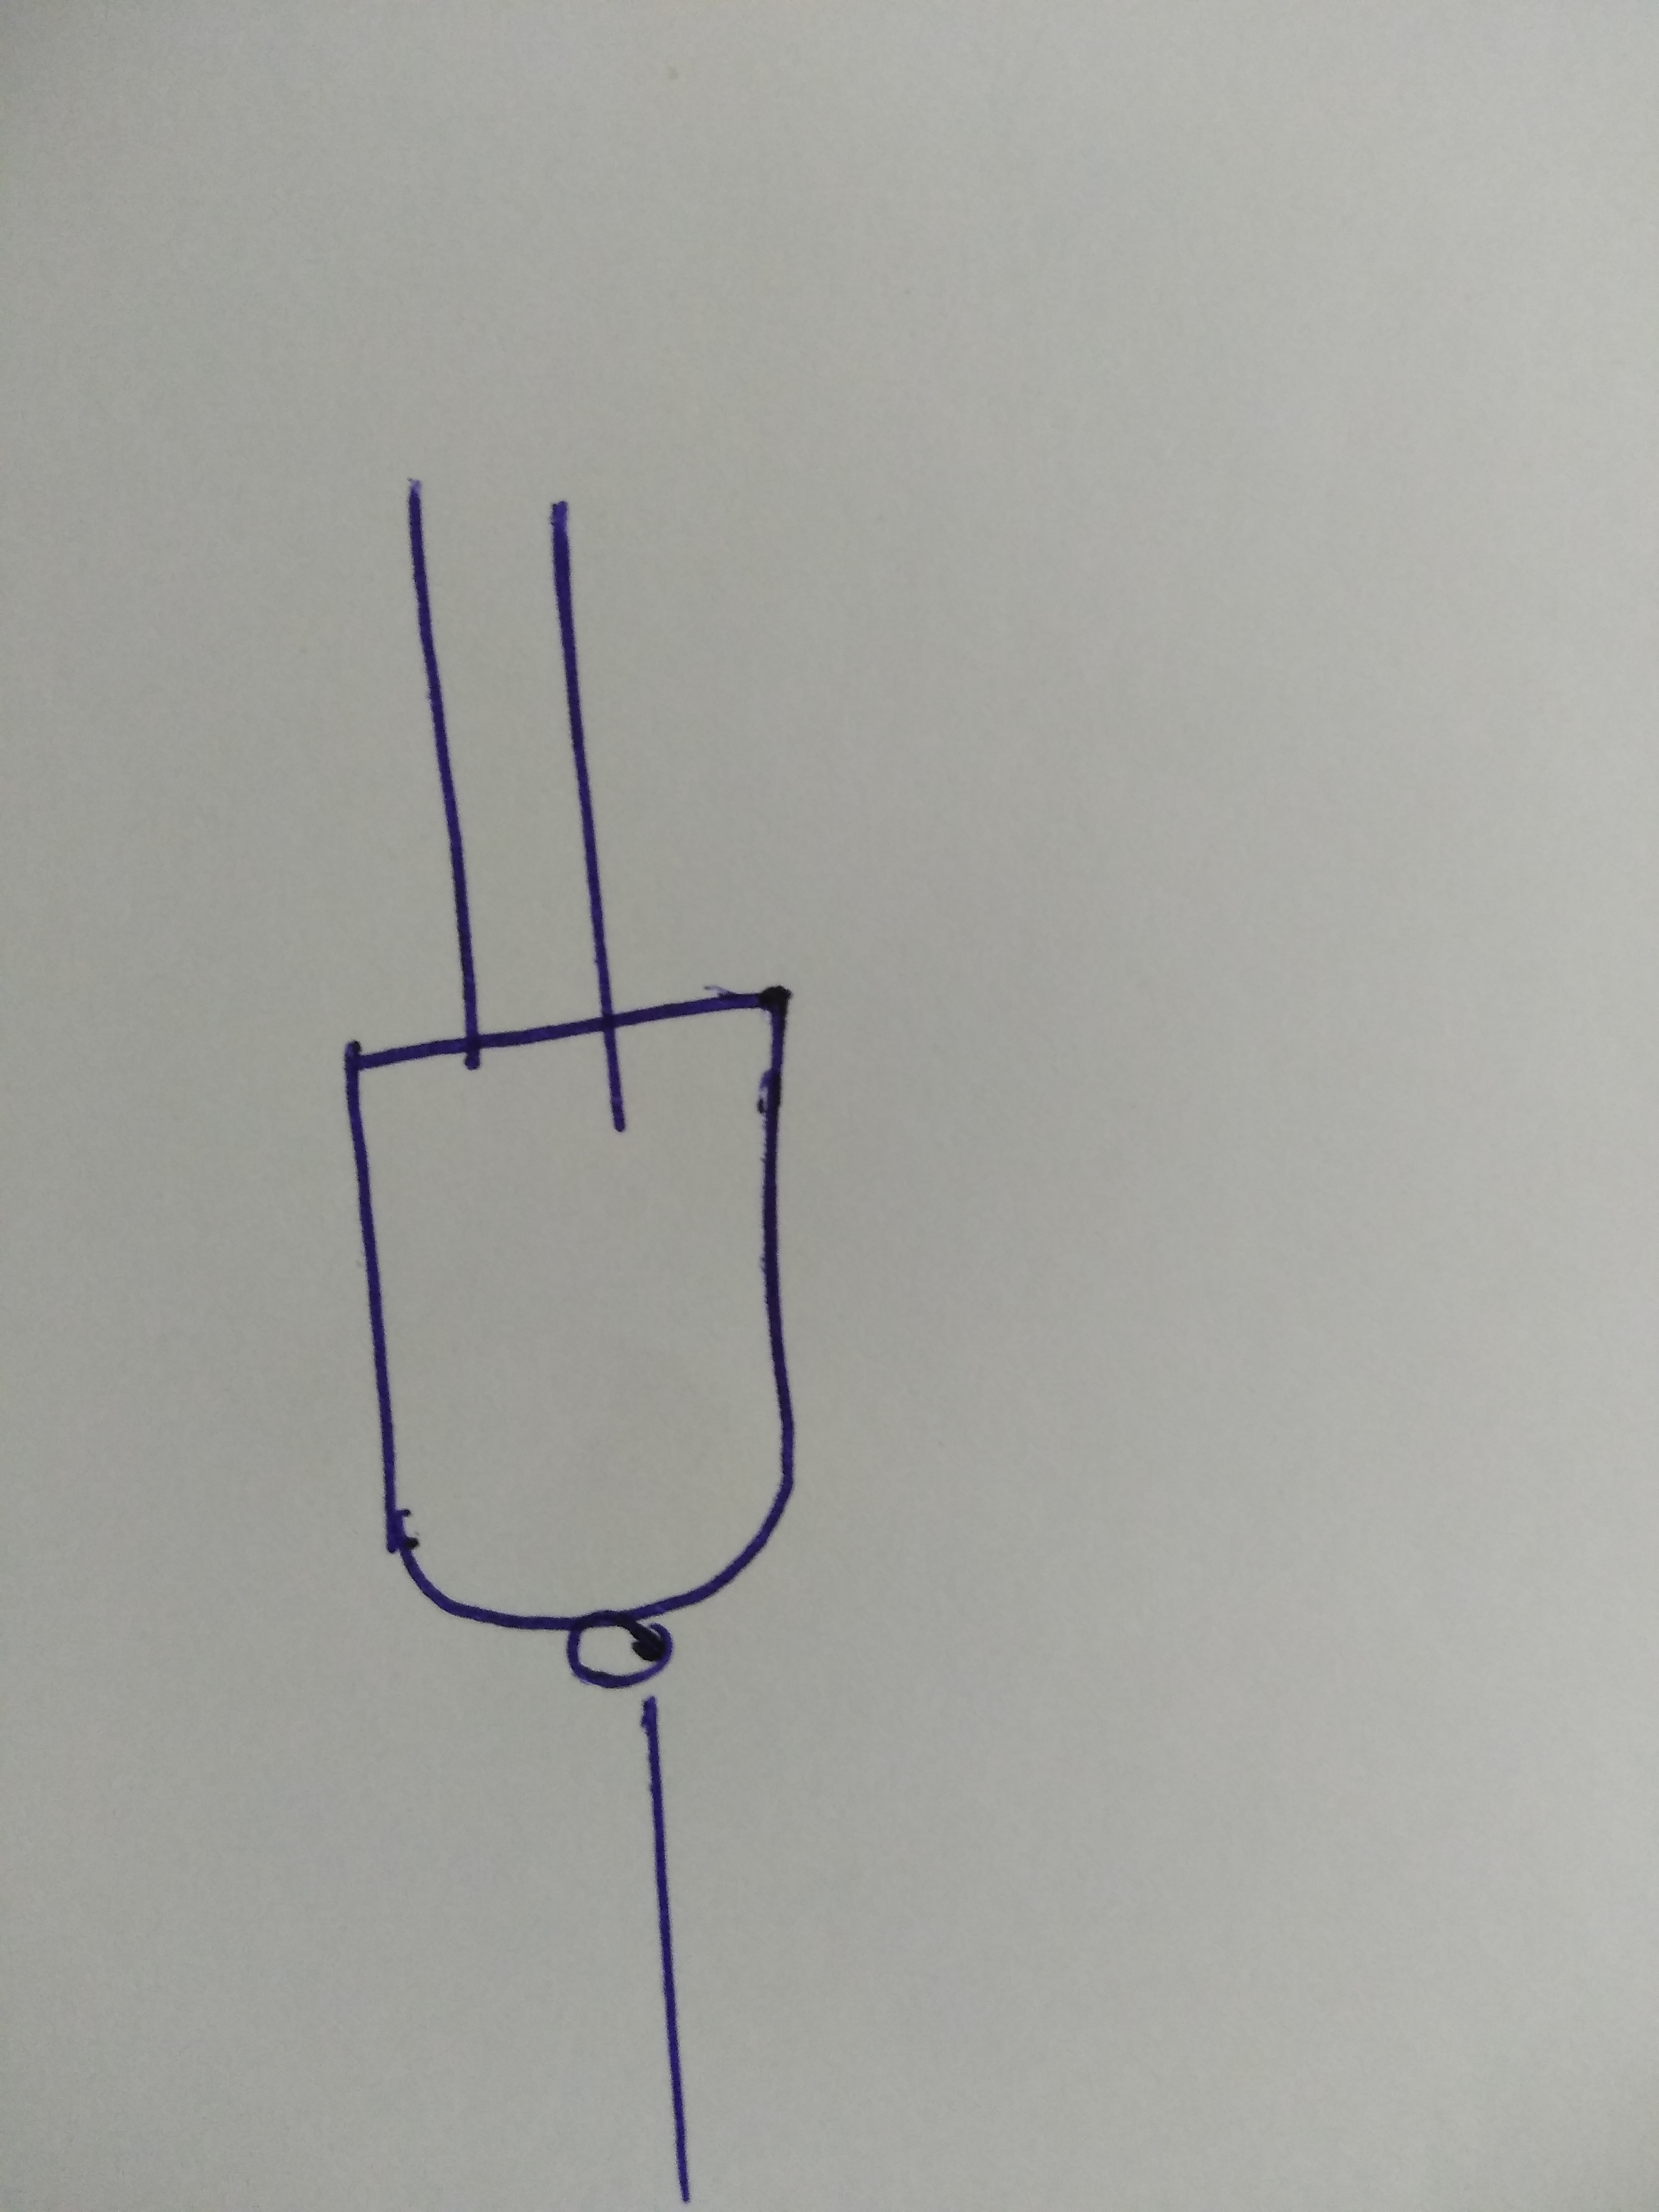nand: (286, 894, 931, 1757)
